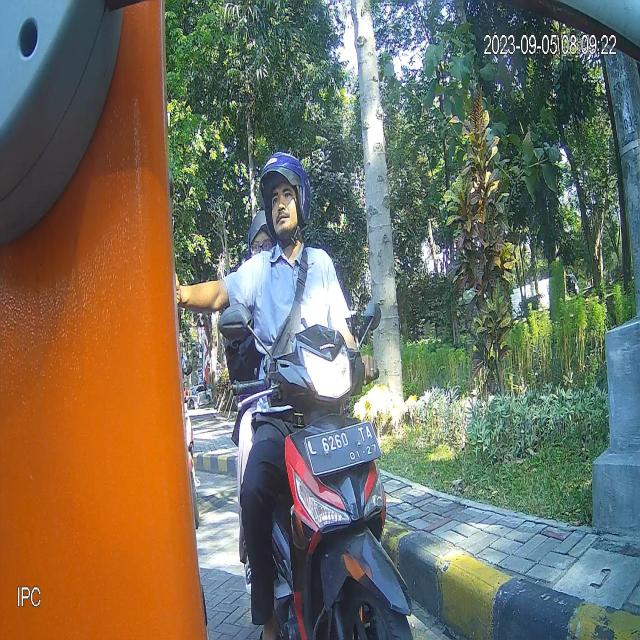license-plate: (303, 420, 383, 478)
